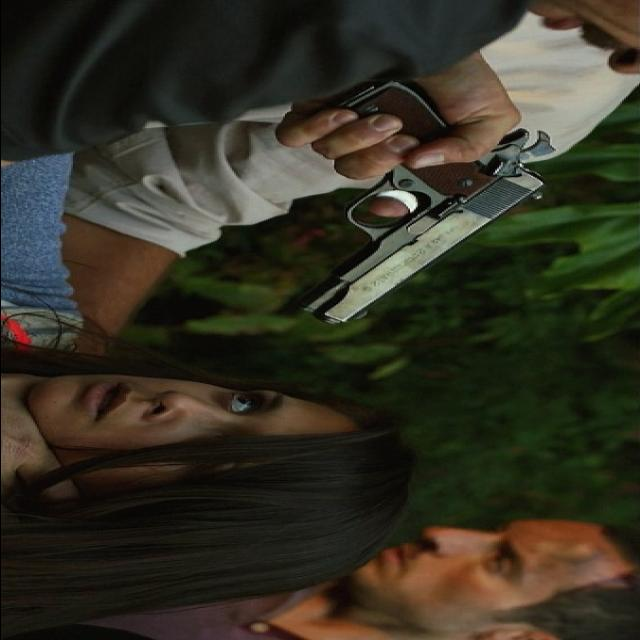weapons: (258, 70, 564, 330)
